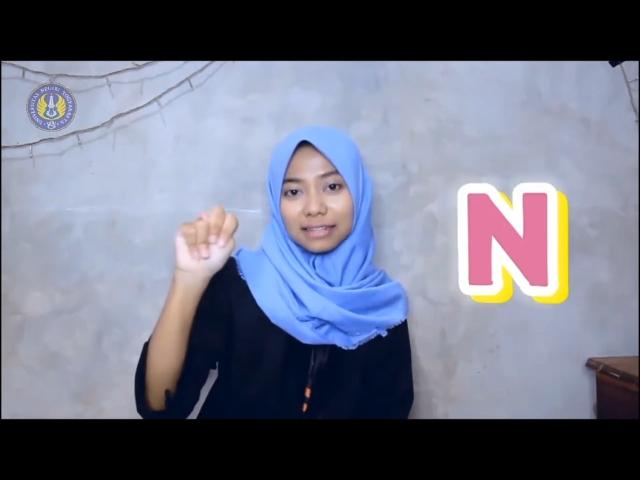N: (172, 202, 240, 278)
